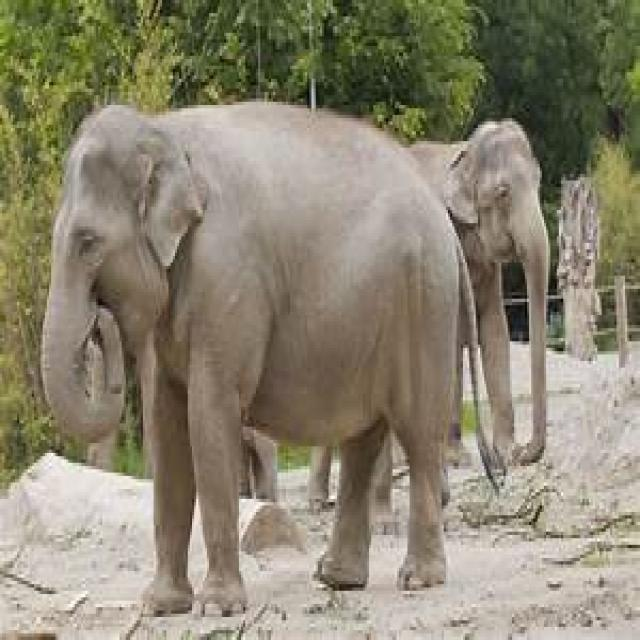elephant: (41, 102, 469, 617), (410, 121, 550, 476)
